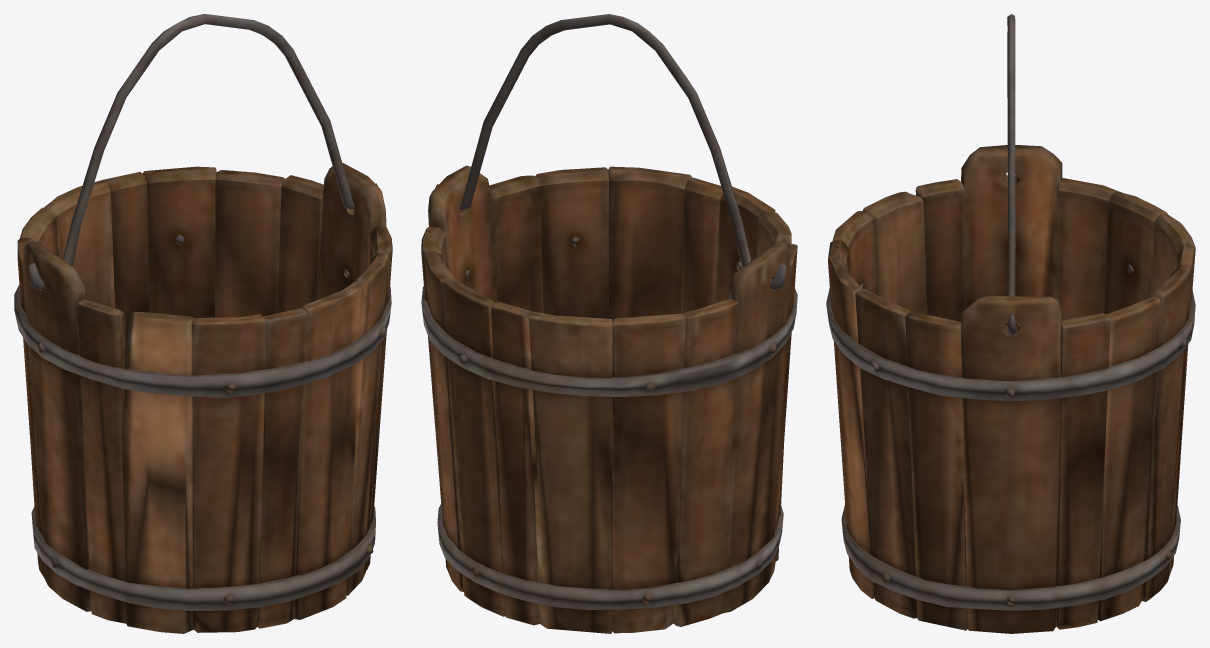
The model's file is wooden_bucket_01.glb.
The picture shows the model from 3 angles, left to right: view 1: azimuth 30°, elevation 25°; view 2: azimuth 150°, elevation 25°; view 3: azimuth 270°, elevation 25°; orthographic projection.
Parts seen in each view (by area): view 1: wooden_bucket_01; view 2: wooden_bucket_01; view 3: wooden_bucket_01.
Boxes of the visible parts, x1,y1,x2,y2 form: wooden_bucket_01: [14, 14, 392, 633]; wooden_bucket_01: [421, 14, 797, 633]; wooden_bucket_01: [826, 14, 1195, 633].
Bounding box in the file's own units: 0.3663 × 0.5499 × 0.3408.
Materials: 1 (1 with a texture image).
